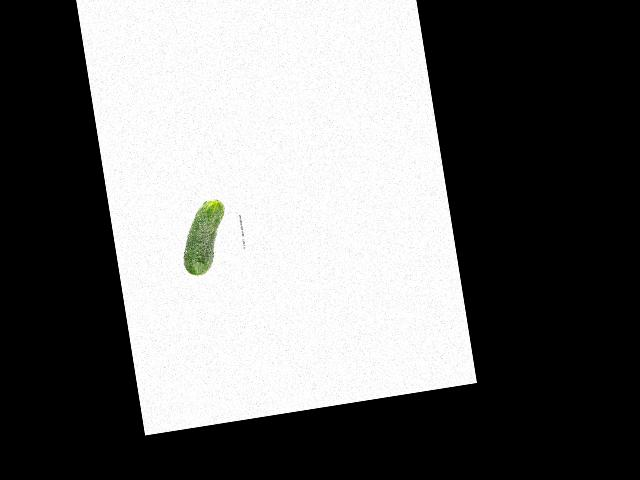cucumber: (175, 198, 234, 278)
